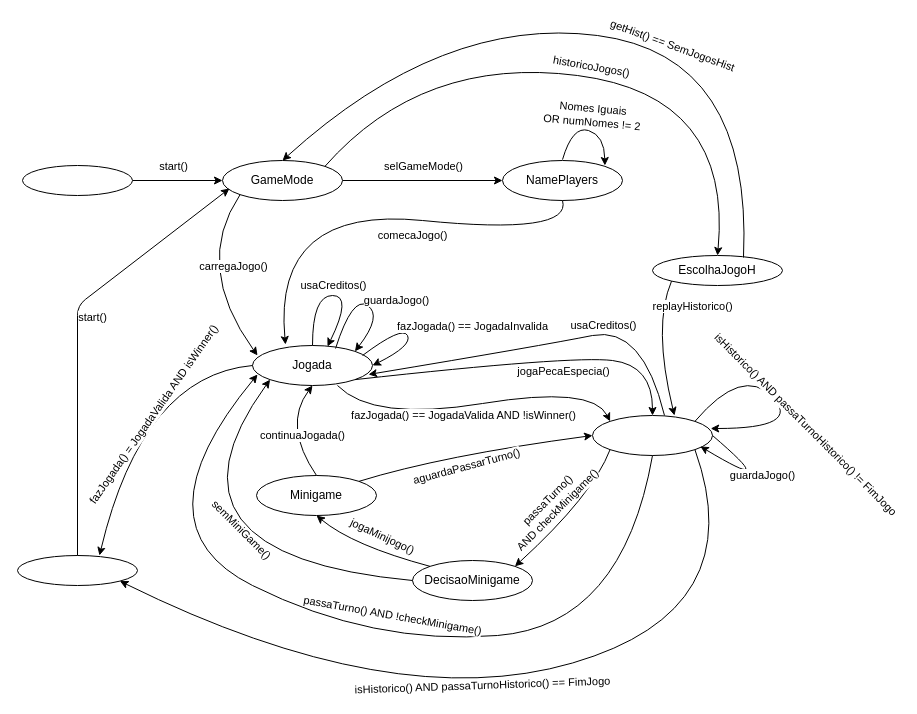
Image size: 917x714. Some labels were removed from this diagram. Here are the shapes that lost their labels. From the top down, the centre of each, then its label:
At [77,180]: "Inicio".
At [652,435]: "Passar Turno".
At [77,570]: "Game Over".
